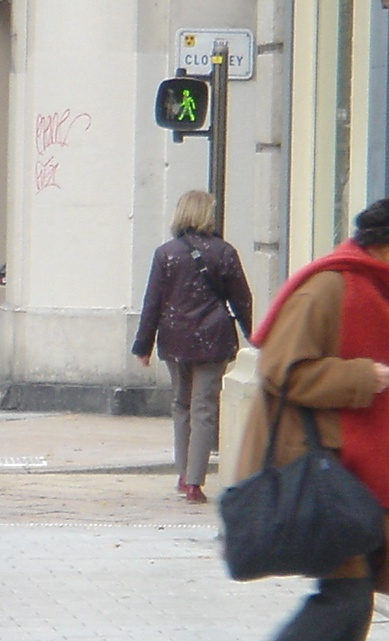person: (149, 183, 243, 506)
